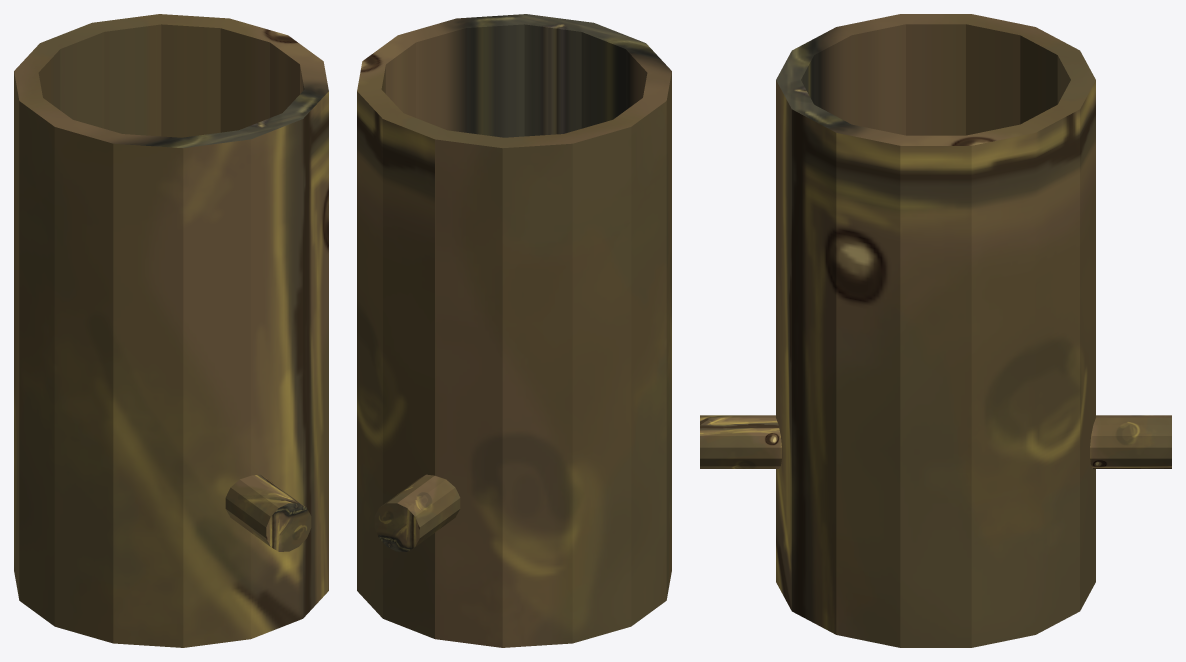
Rendered from Barrel.obj.
3 views of the same model, side by side, from view 1: azimuth 30°, elevation 25°; view 2: azimuth 150°, elevation 25°; view 3: azimuth 270°, elevation 25° (orthographic).
Visible parts, largest first — view 1: Barrel_Circle; view 2: Barrel_Circle; view 3: Barrel_Circle.
Boxes of the visible parts, box(x1,y1,x2,y2) form: Barrel_Circle: box(14, 14, 328, 647); Barrel_Circle: box(357, 14, 671, 647); Barrel_Circle: box(700, 14, 1171, 647).
Bounding box in the file's own units: 1.33 × 2.37 × 2.01.
Materials: 1 (1 with a texture image).
